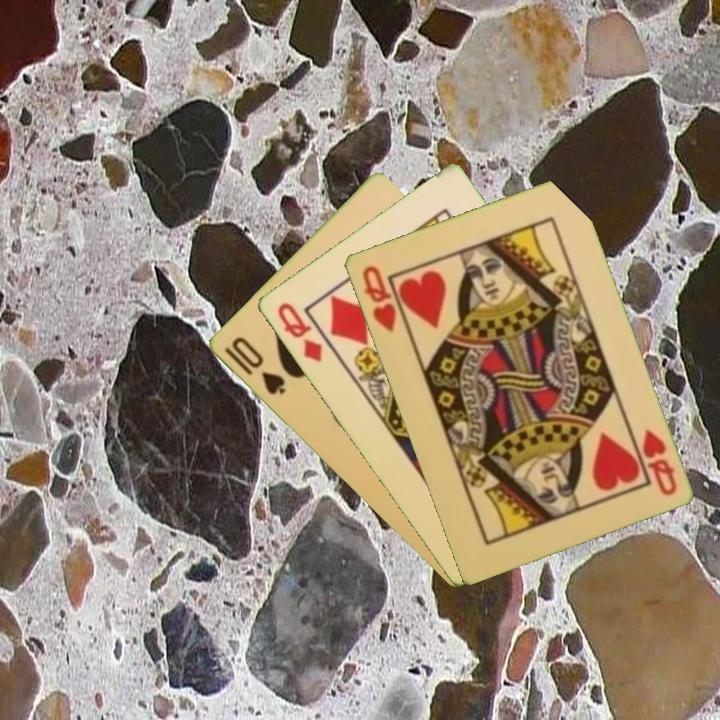10s: (220, 332, 288, 398)
Qd: (273, 298, 325, 365)
Qh: (358, 261, 399, 335), (638, 425, 679, 499)
